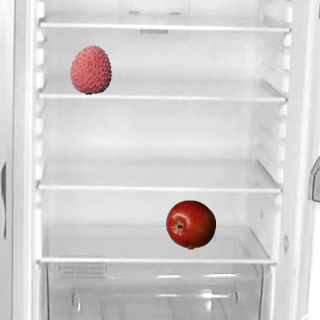Apple Braeburn: (165, 199, 215, 249)
Lychee: (65, 44, 115, 94)
